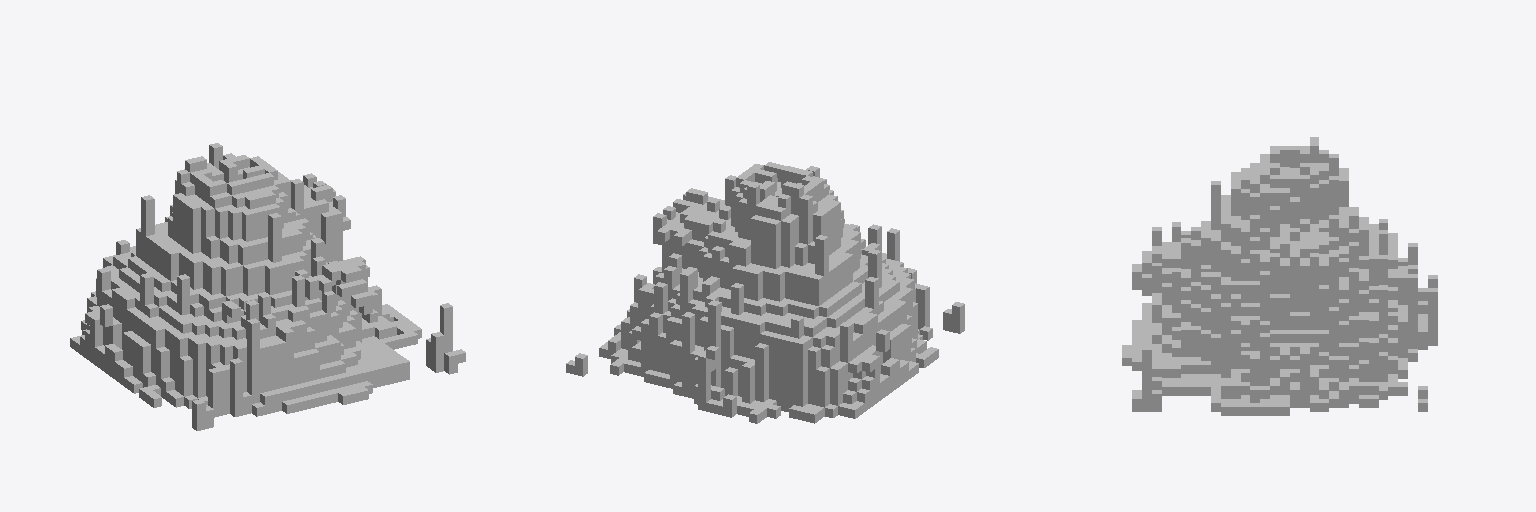
The model's file is Island Boss.obj.
The picture shows the model from 3 angles: view 1: azimuth 30°, elevation 25°; view 2: azimuth 150°, elevation 25°; view 3: azimuth 270°, elevation 25°; orthographic projection.
Parts seen in each view (by area): view 1: object 1; view 2: object 1; view 3: object 1.
Part boxes in pixels (x1,y1,x2,y2): object 1: (70, 143, 465, 430); object 1: (566, 162, 964, 423); object 1: (1122, 137, 1437, 415).
Bounding box in the file's own units: 3.2 × 2.1 × 3.2.